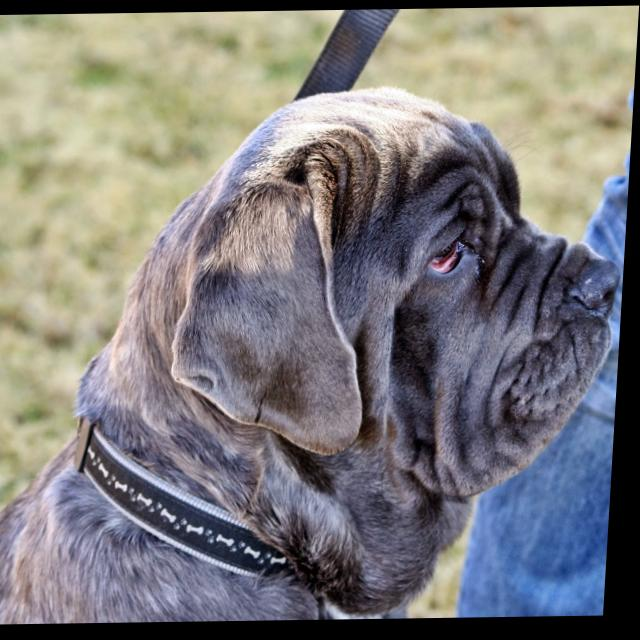mastino_napoletano: (1, 83, 634, 625)
